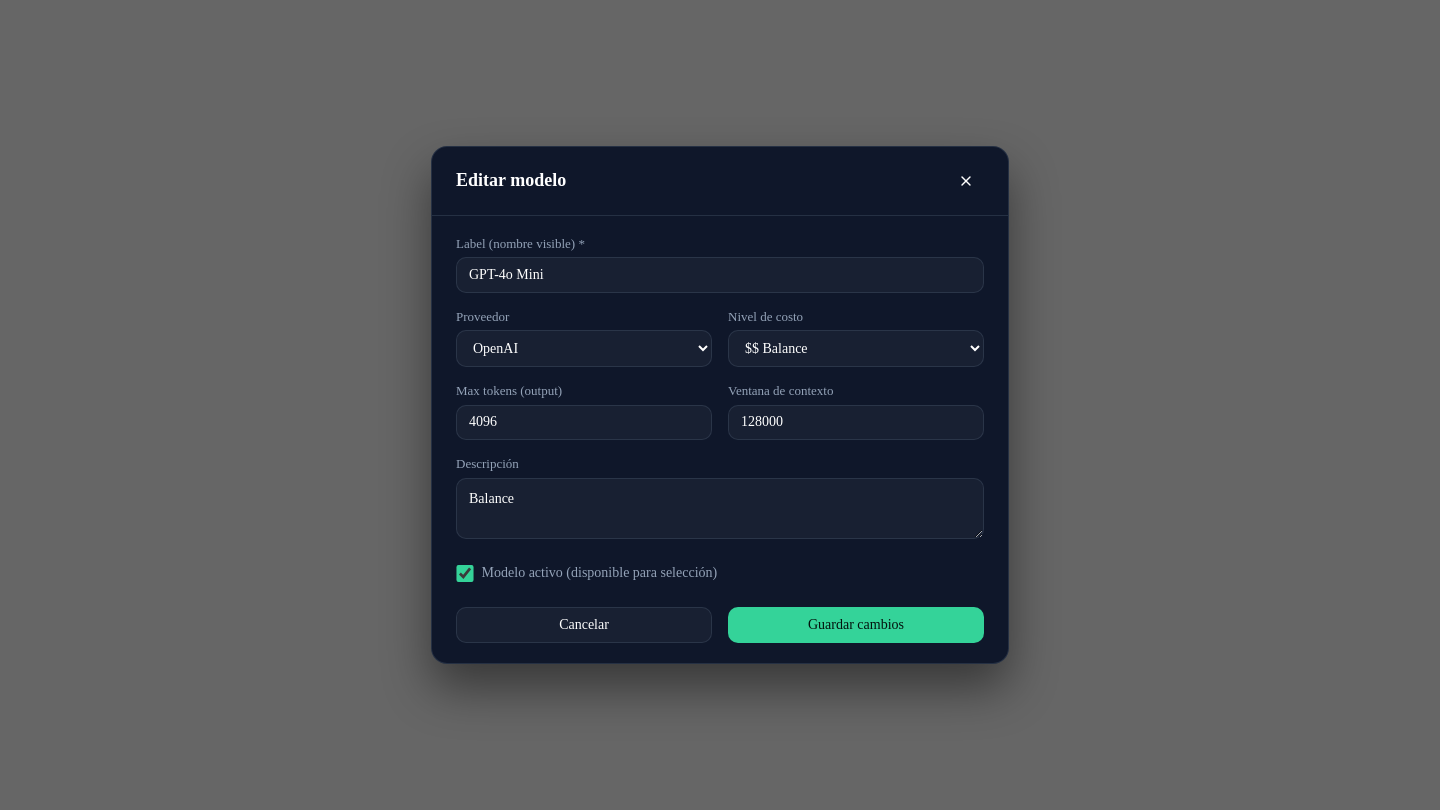
it: LLMModelFormSheet › edits without sending the id, and keeps the sheet open on a store error
Click the button "Guardar cambios".
click(856, 625)  # box [728, 607, 984, 643]
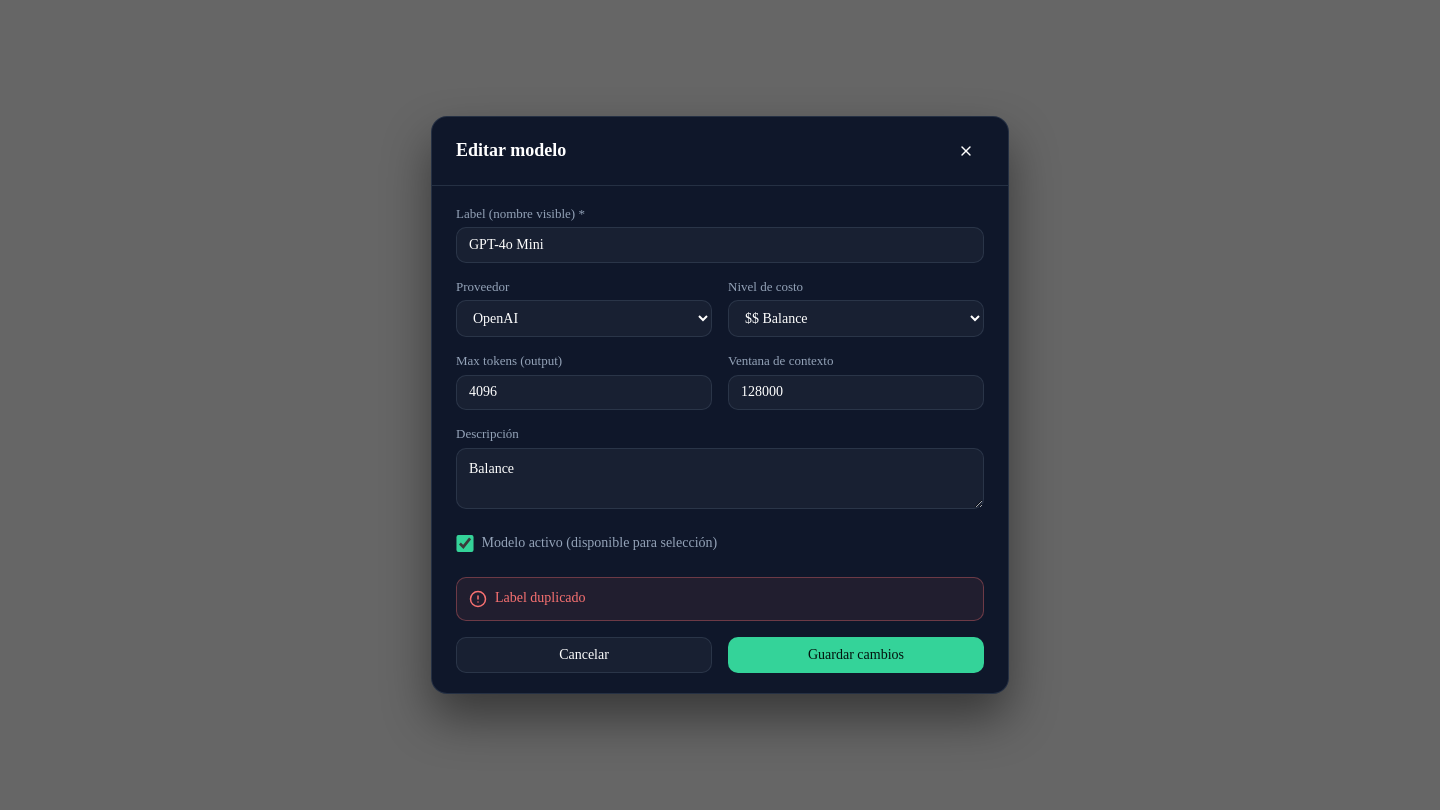
Expected: the text "Label duplicado" is shown, [495, 590, 586, 605]
